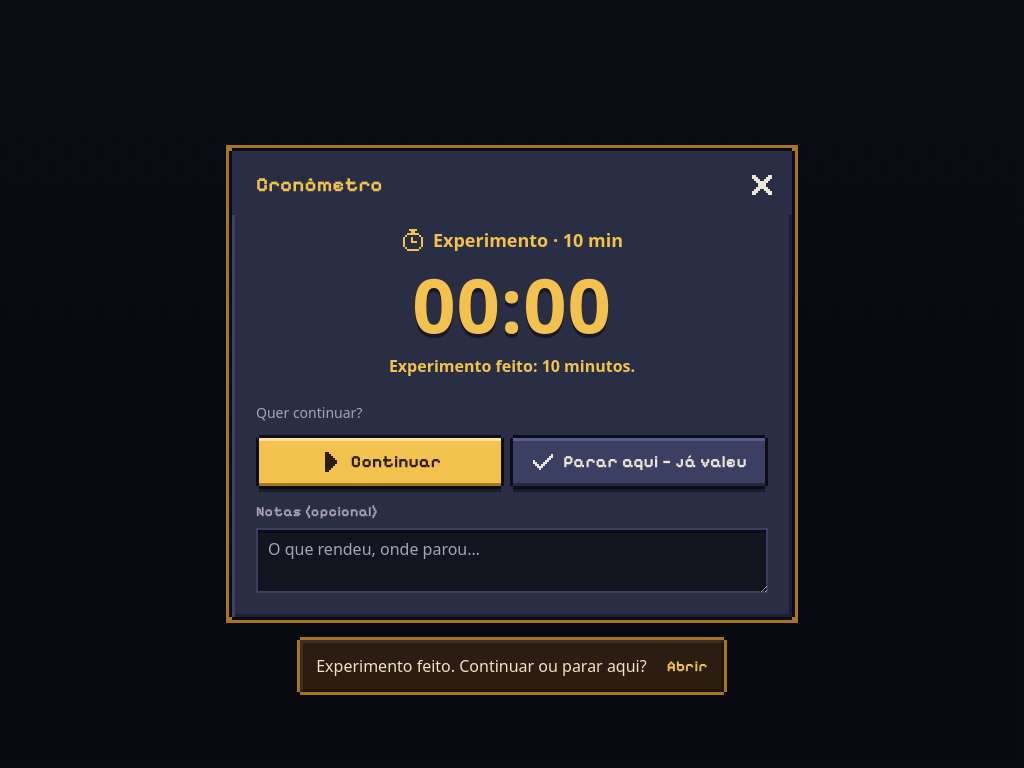
Test: experiment end (timer sheet) › "Continuar" records "continued" and offers Pomodoro or Livre for the same mission
Later steps or results of the test are not shown.
Click the button "Continuar" at (380, 462), box [259,438,501,486]
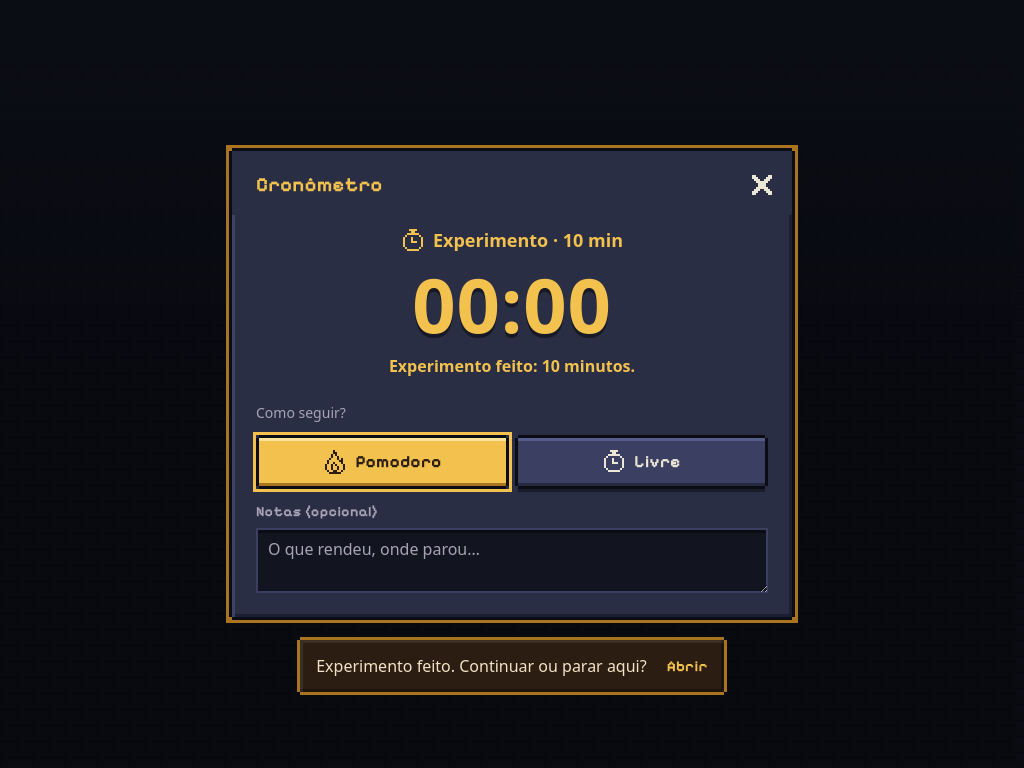
Result: the button "Livre" is shown at [518,438,765,486]
